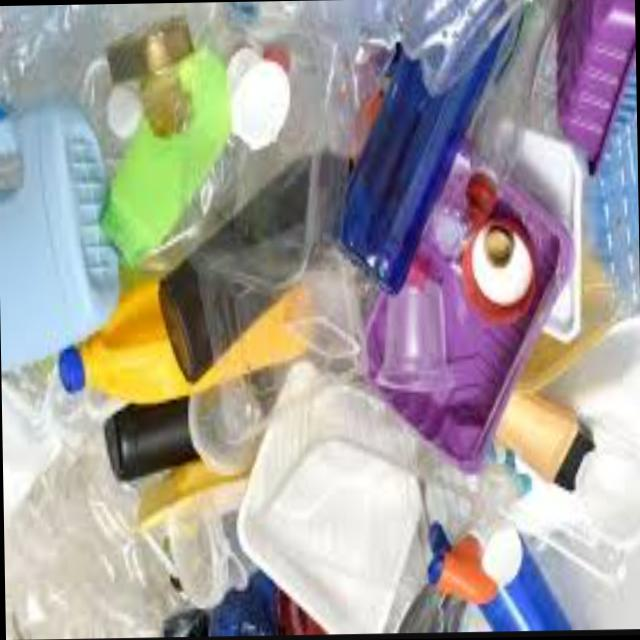KemasanPlastik: (184, 22, 318, 300), (376, 281, 452, 399), (289, 272, 362, 370)
